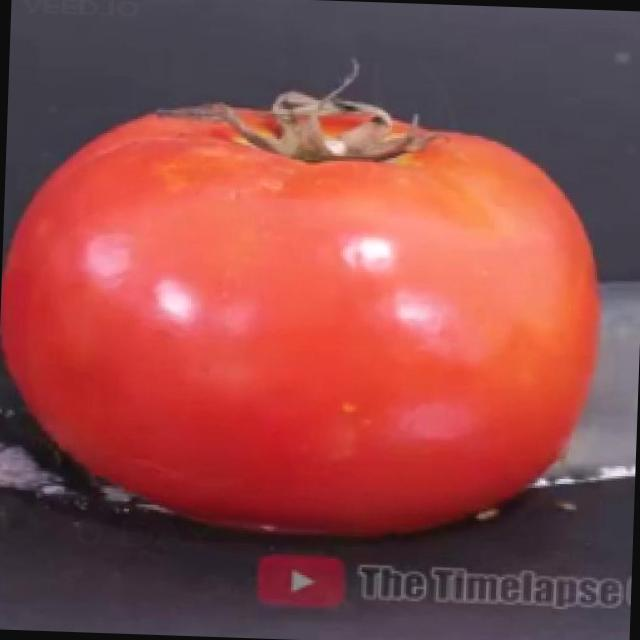tomato: (0, 94, 608, 547)
